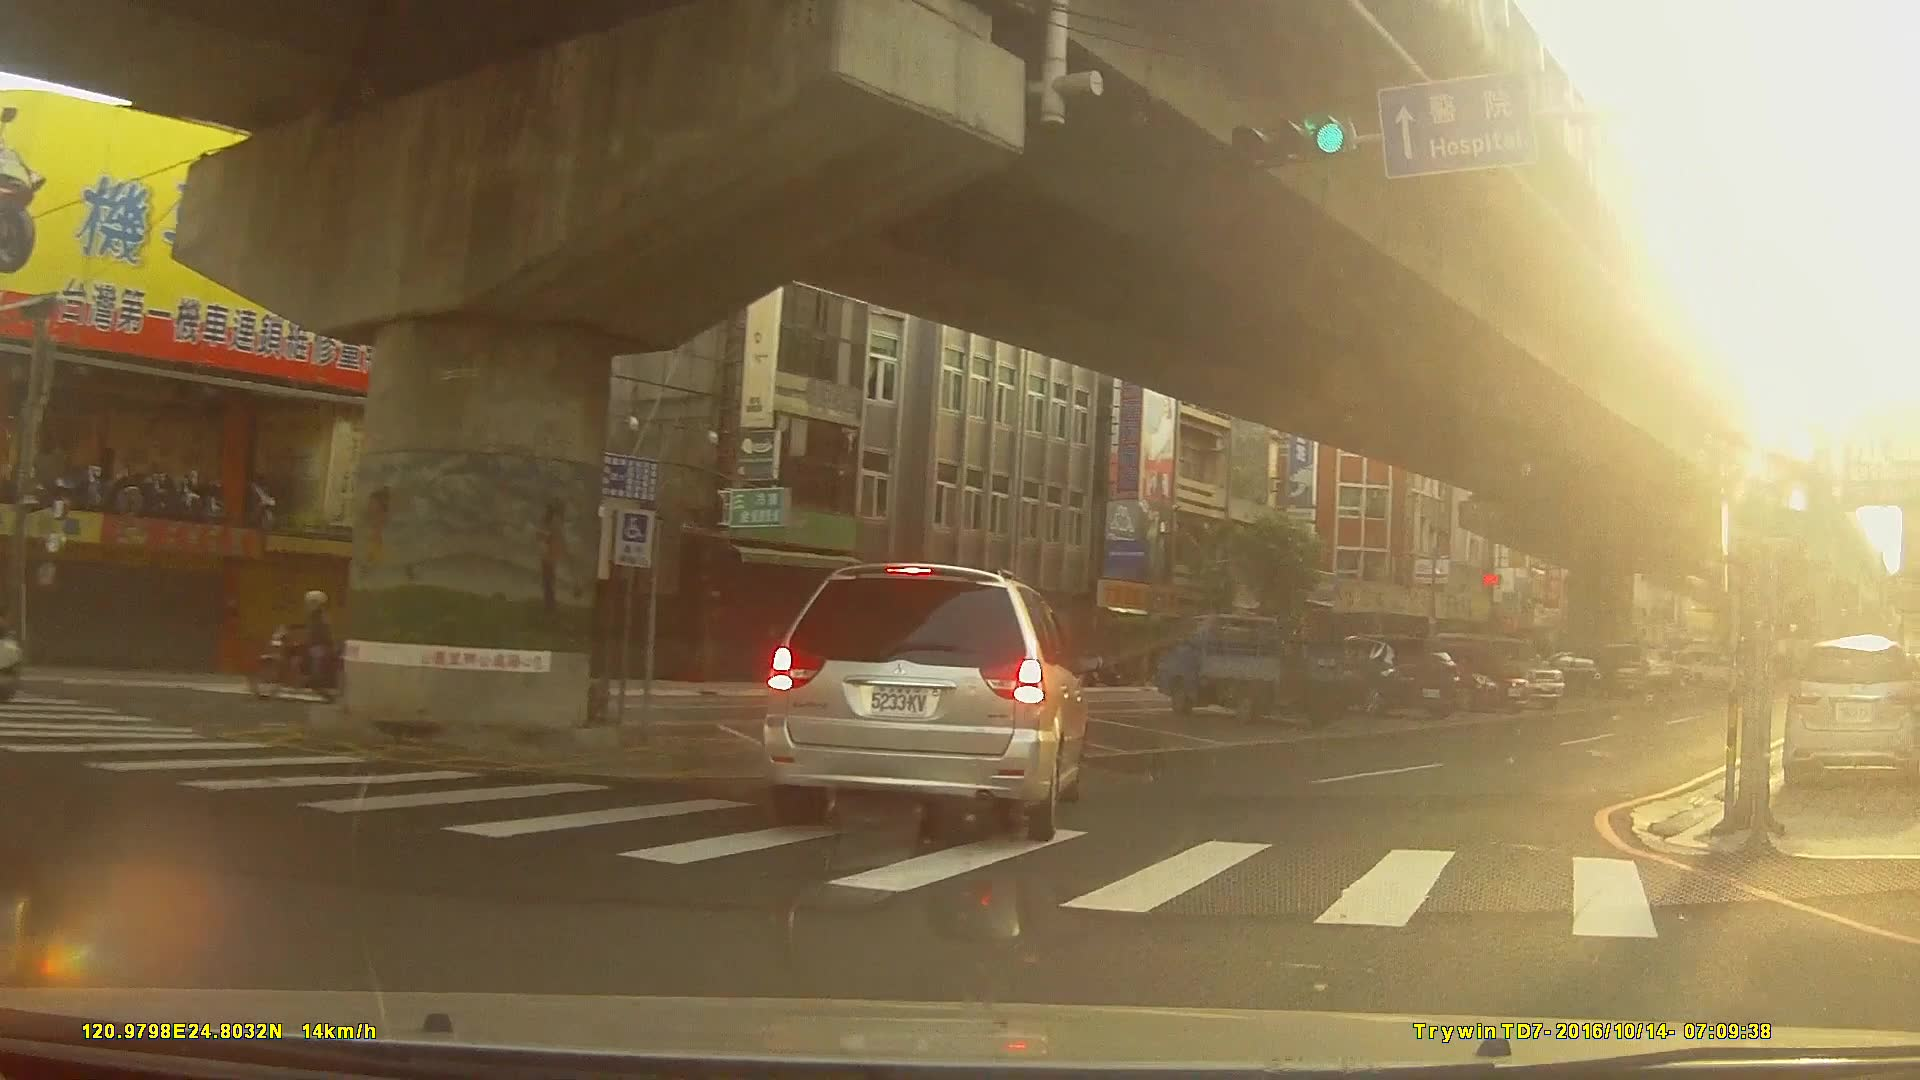rider: (246, 590, 362, 706)
vehicle: (760, 560, 1088, 844), (1151, 610, 1367, 725), (1783, 636, 1913, 794), (1319, 632, 1459, 718), (1400, 640, 1533, 712), (1525, 654, 1616, 702)
